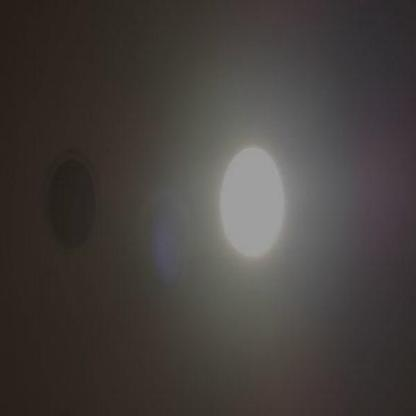light_off: (43, 115, 118, 269)
